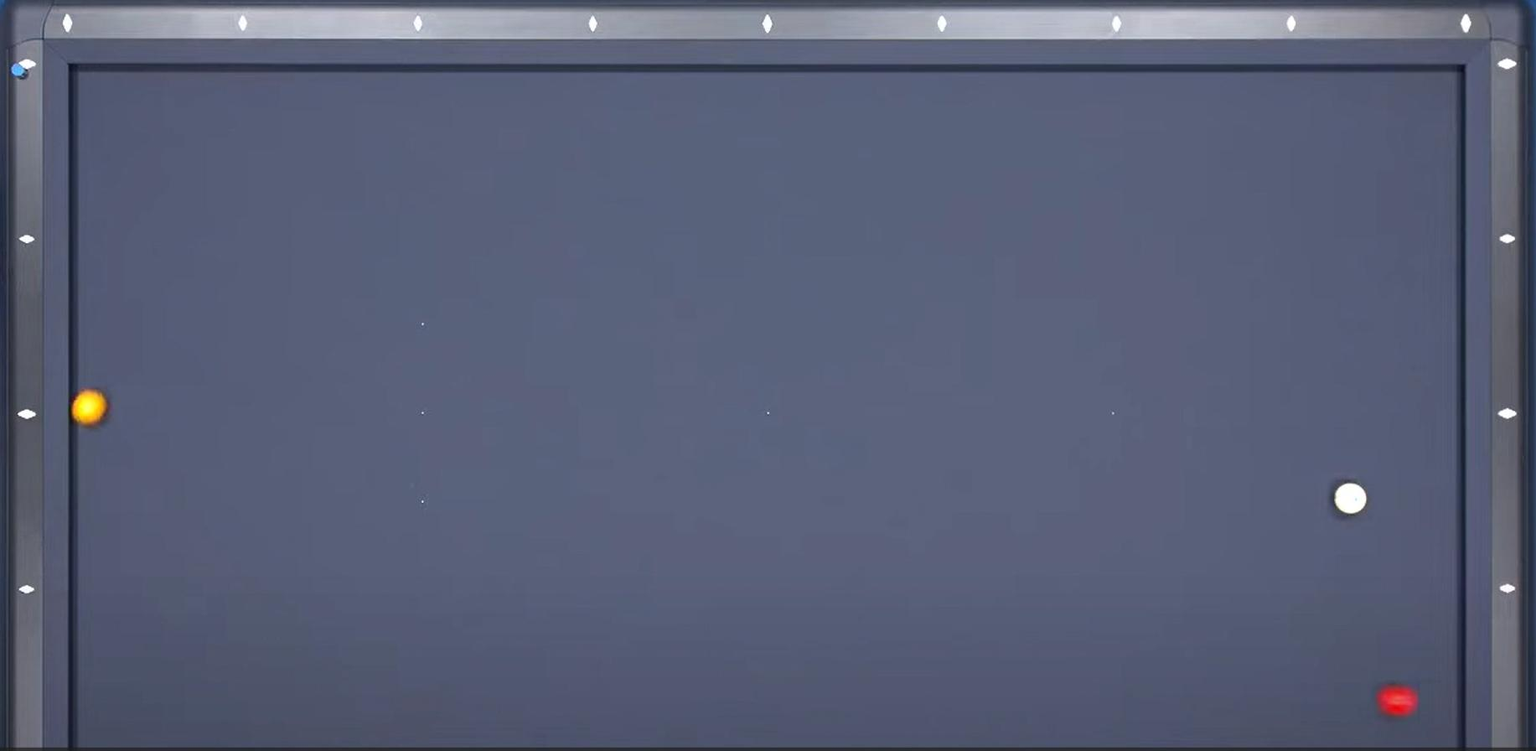red ball: (1376, 680, 1422, 721)
white ball: (1327, 480, 1373, 521)
yellow ball: (71, 387, 111, 429)
